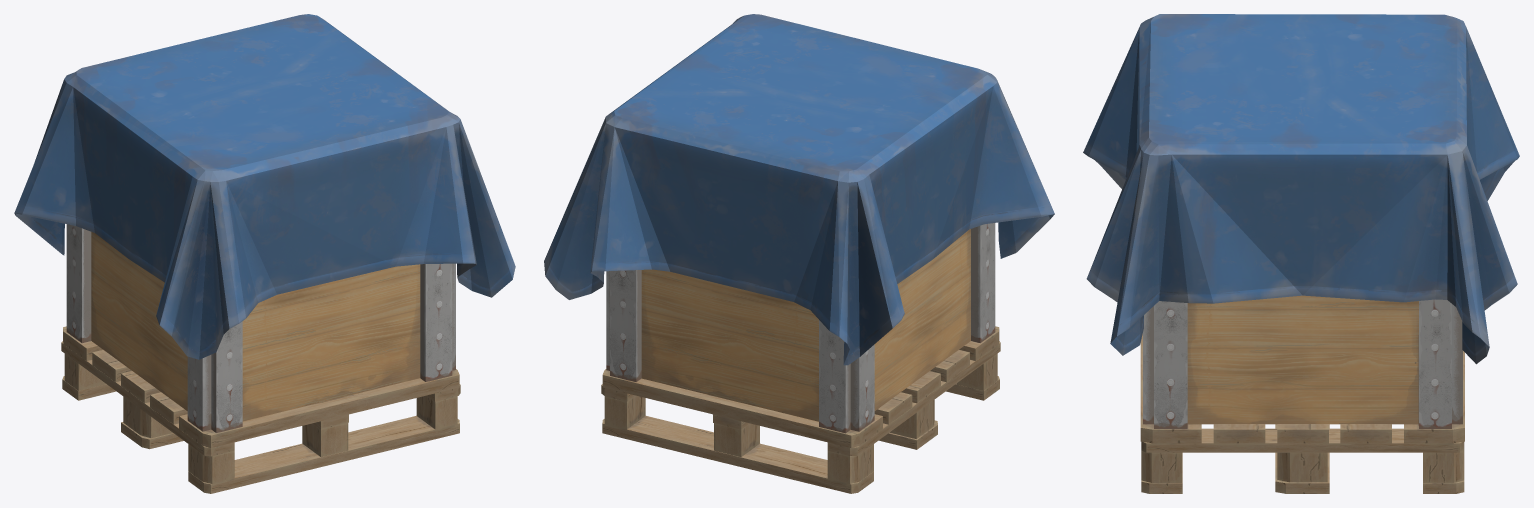
File: P_Construction_006_S1_M01.obj
3 renders of one model, left to right at view 1: azimuth 30°, elevation 25°; view 2: azimuth 150°, elevation 25°; view 3: azimuth 270°, elevation 25°, orthographic. The views are drawn at different scales.
Bounding box in the file's own units: 2.07 × 1.77 × 2.02.
Materials: 1 (1 with a texture image).
